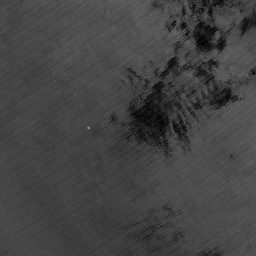Target: (85, 124, 92, 131)
